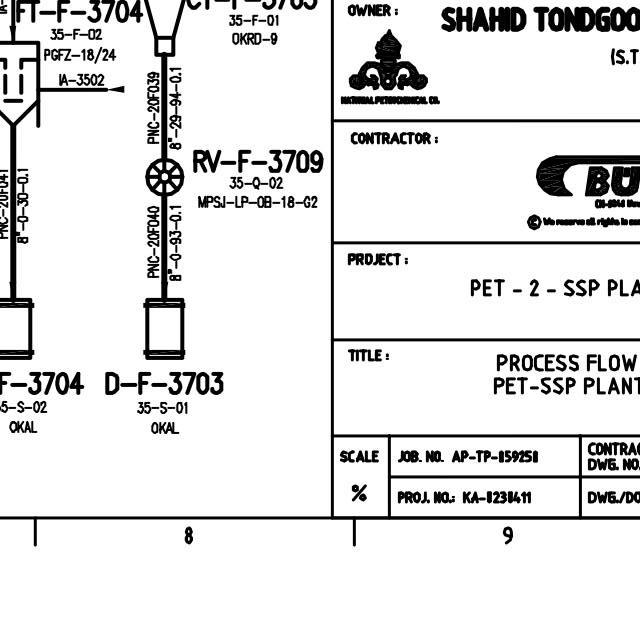D2: (137, 293, 191, 366)
FT2: (0, 36, 45, 133)
RV1: (143, 155, 186, 198)
